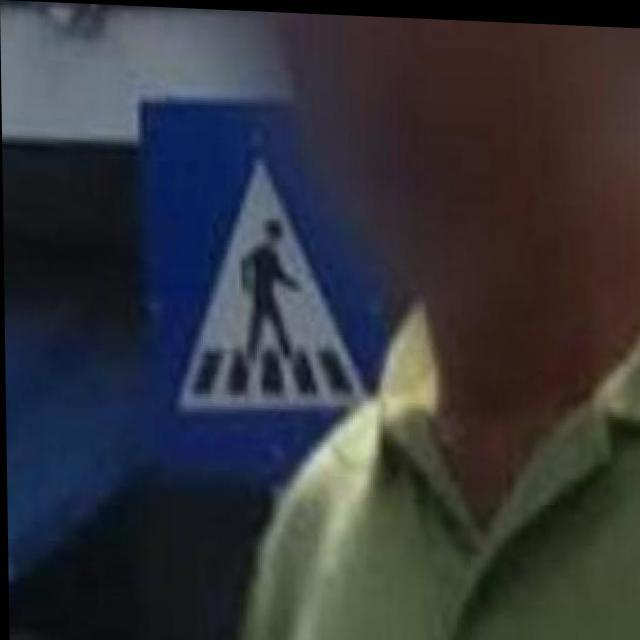crosswalk-sign: (143, 109, 382, 457)
